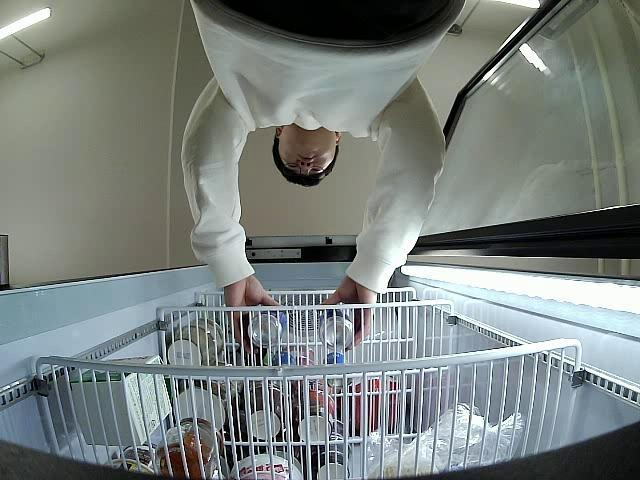13_pocariSweat: (319, 304, 356, 350), (246, 308, 288, 348)
